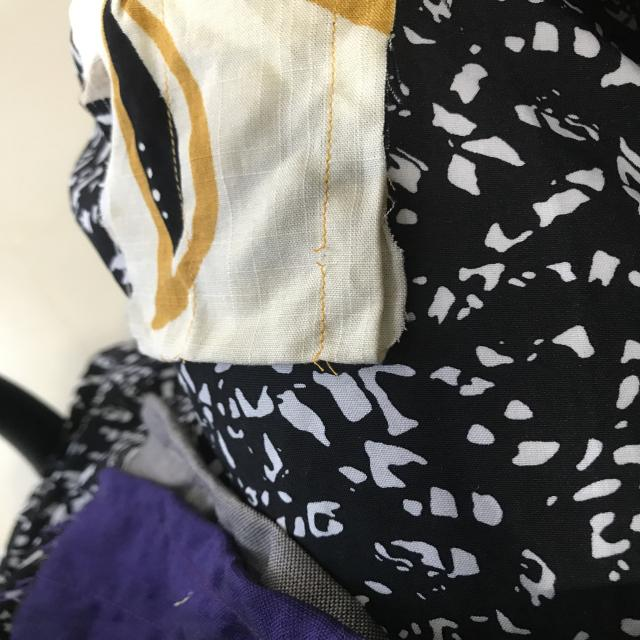broken: (307, 235, 343, 277)
